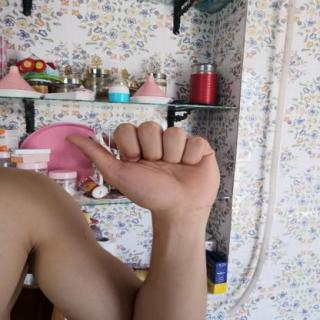DAD: (56, 116, 230, 221)
